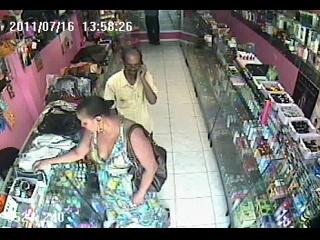Normal: (32, 95, 170, 226), (103, 47, 159, 134), (144, 10, 160, 45)
